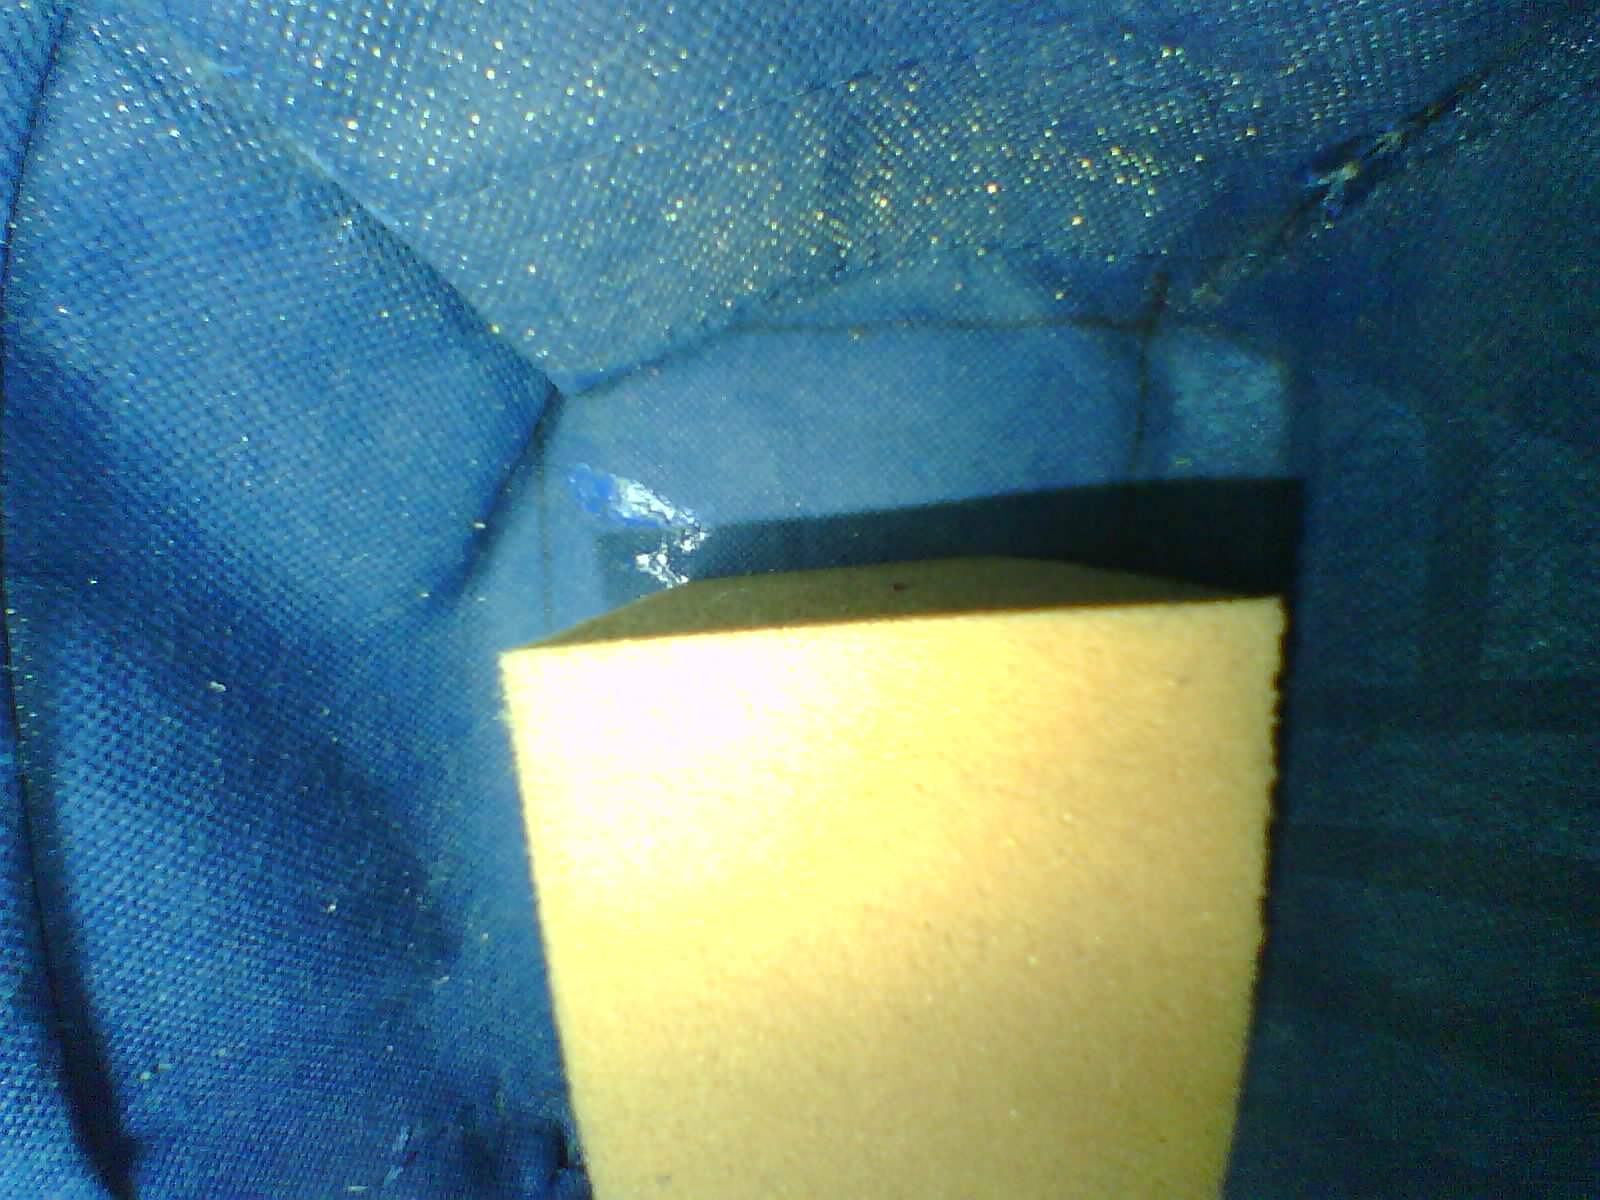cube-soft: (484, 531, 1303, 1200)
